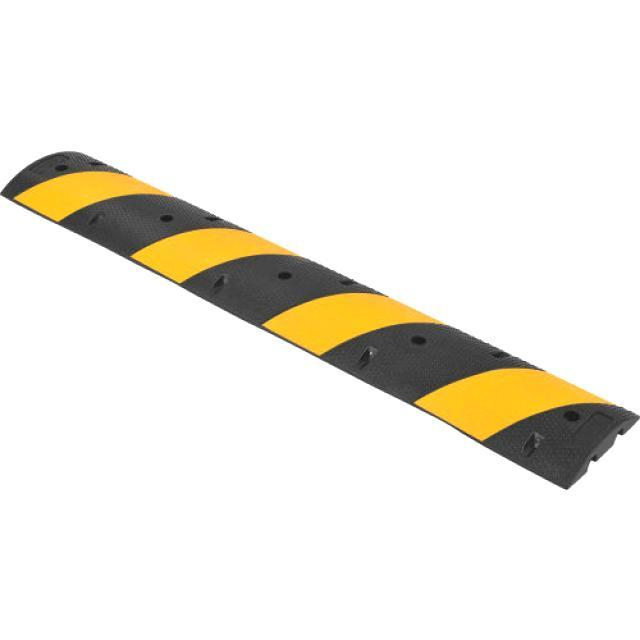speed-bump: (0, 123, 640, 495)
